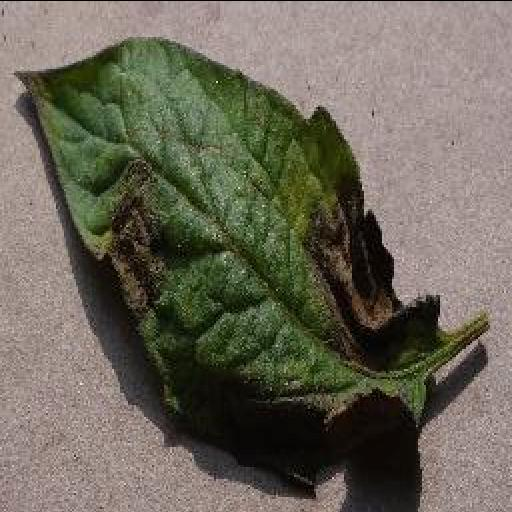disease_tomato: (12, 34, 438, 436)
